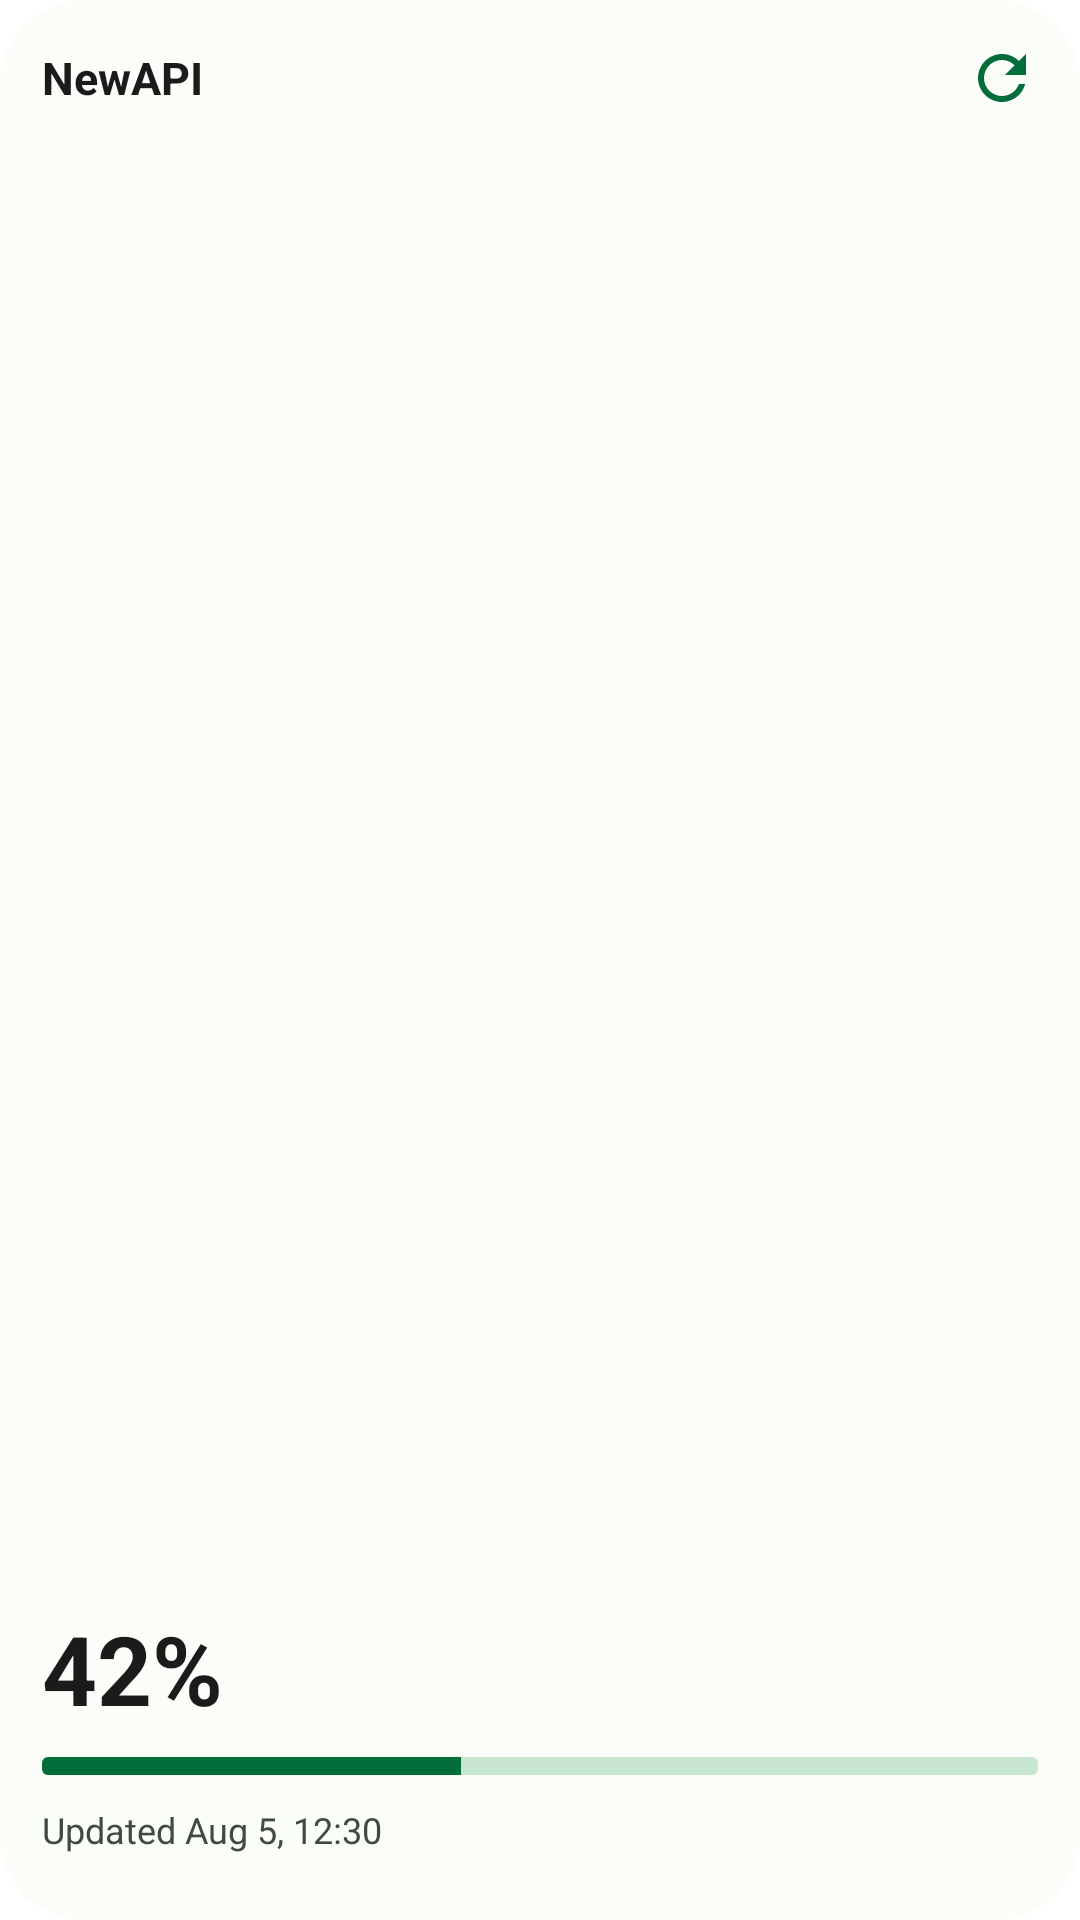

Where to tap for icons on this 1080w x 1920h app screen, as (x,y):
refresh: (1002,78)
